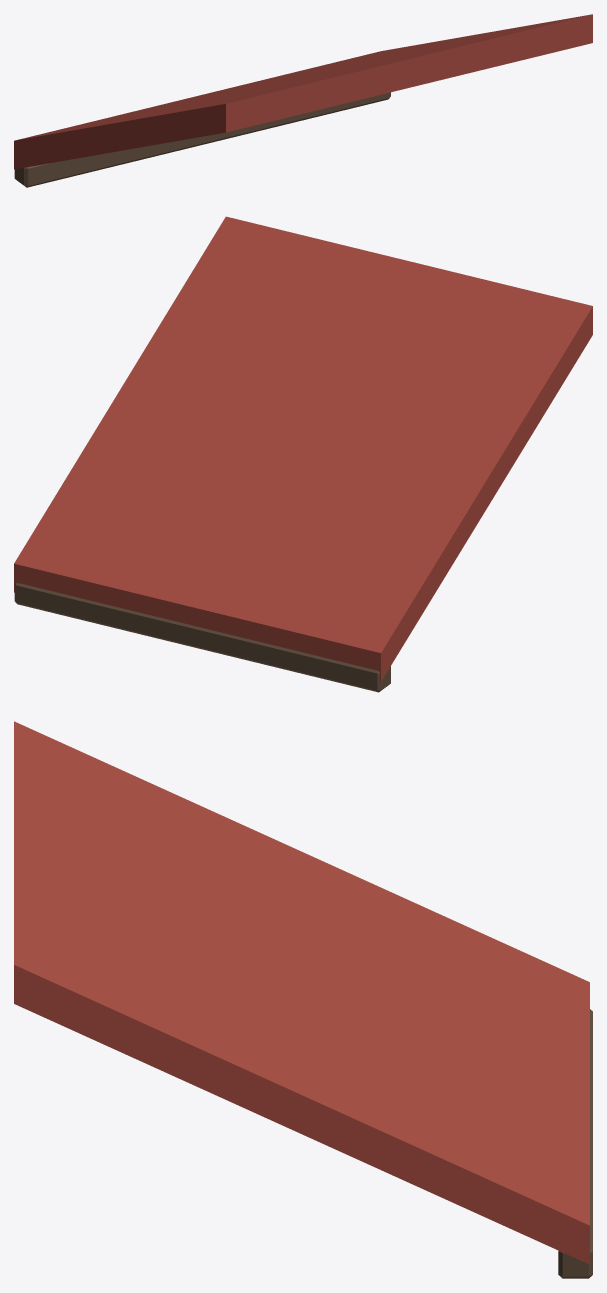
Rendered from architecture-village-roof.lod0.glb.
The picture shows the model from 3 angles, top to bottom: view 1: azimuth 30°, elevation 25°; view 2: azimuth 150°, elevation 25°; view 3: azimuth 270°, elevation 25°; orthographic projection. The views are drawn at different scales.
Parts seen in each view (by area): view 1: architecture-village-roof__body; view 2: architecture-village-roof__body; view 3: architecture-village-roof__body.
Part boxes in pixels (box(x1,y1,x2,y2)): architecture-village-roof__body: box(14, 14, 592, 187); architecture-village-roof__body: box(14, 216, 592, 692); architecture-village-roof__body: box(14, 721, 592, 1278).
Bounding box in the file's own units: 2 × 1.21 × 2.01.
